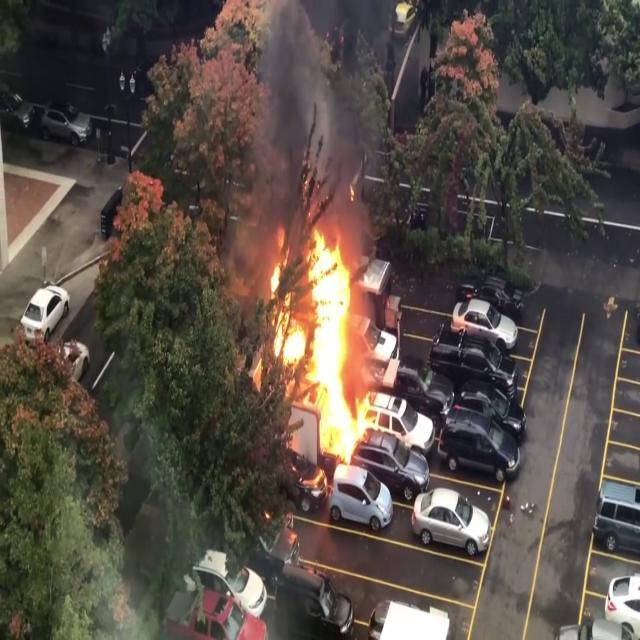Fire: (248, 218, 378, 481)
Smoke: (234, 0, 400, 231)
